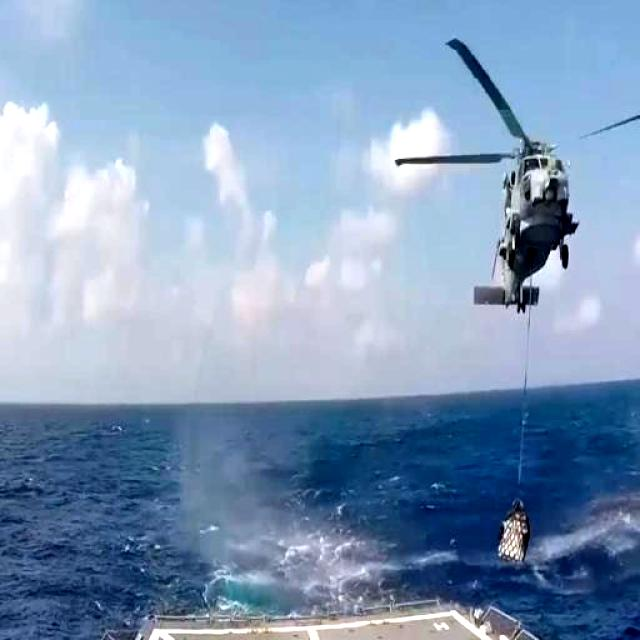drone: (395, 34, 640, 316)
